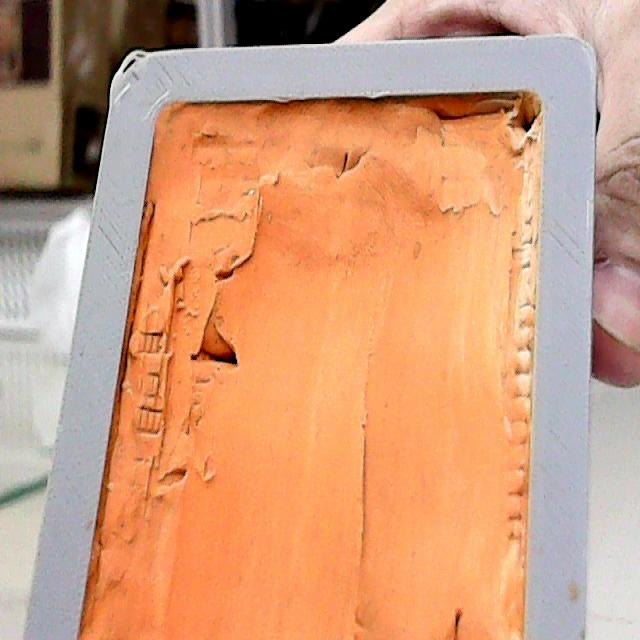block: (29, 45, 589, 638)
